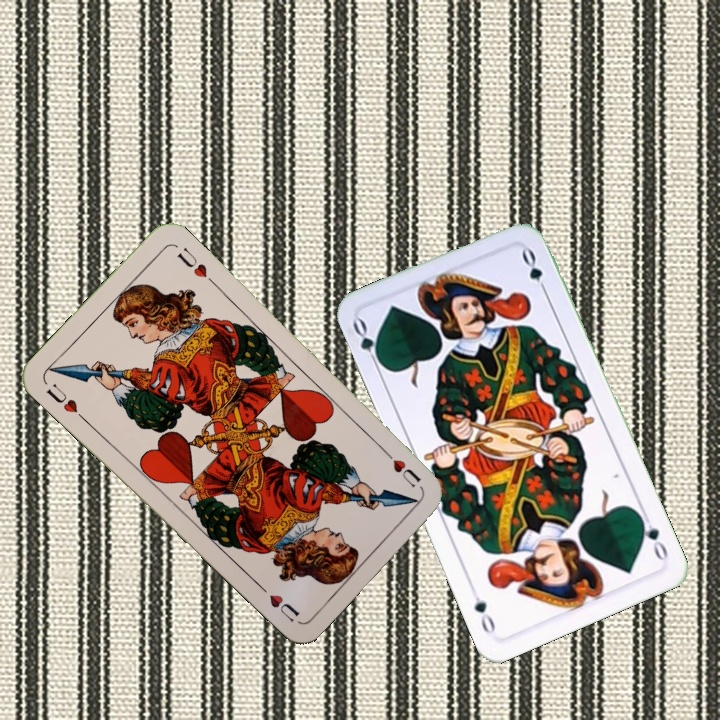GO: (348, 314, 387, 372), (634, 510, 671, 564)
HU: (42, 379, 88, 424), (378, 444, 423, 490)
